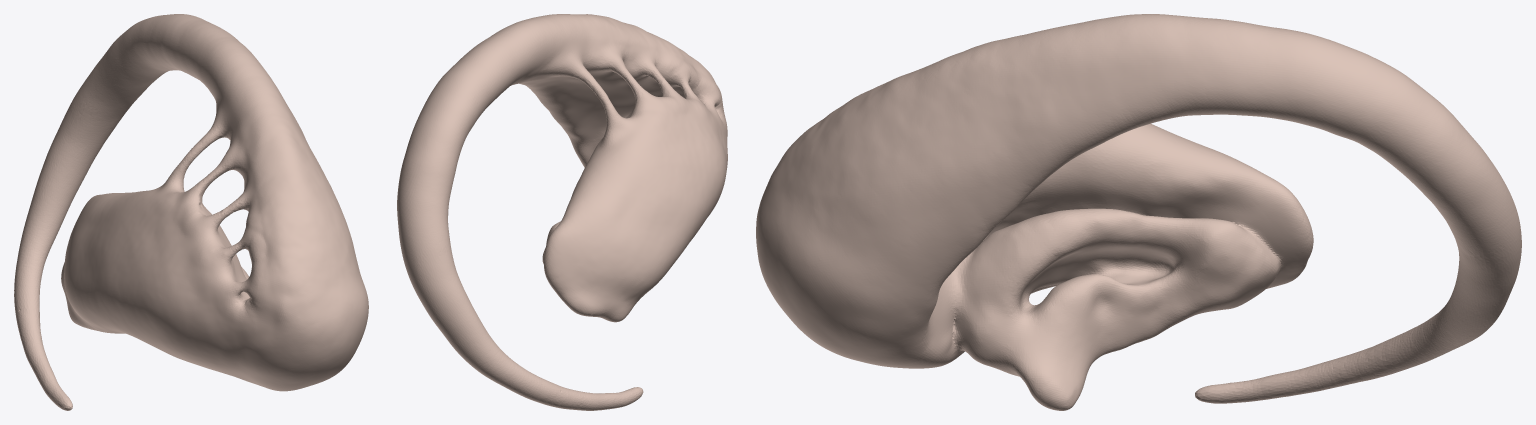
The model's file is StriatumBasal-Right.glb.
3 renders of one model, left to right at view 1: azimuth 30°, elevation 25°; view 2: azimuth 150°, elevation 25°; view 3: azimuth 270°, elevation 25°, orthographic. The views are drawn at different scales.
Visible parts, largest first — view 1: right; view 2: right; view 3: right.
Part boxes in pixels (x1=…): right: x1=14, y1=14, x2=368, y2=410; right: x1=397, y1=14, x2=727, y2=410; right: x1=756, y1=14, x2=1521, y2=410.
Bounding box in the file's own units: 23 × 39.52 × 56.72.
